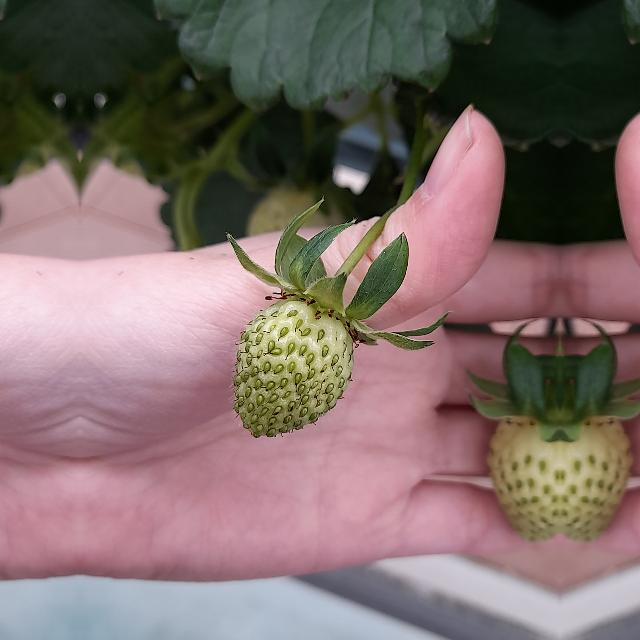Health_25: (233, 295, 353, 437), (486, 406, 560, 542), (560, 406, 634, 542)
